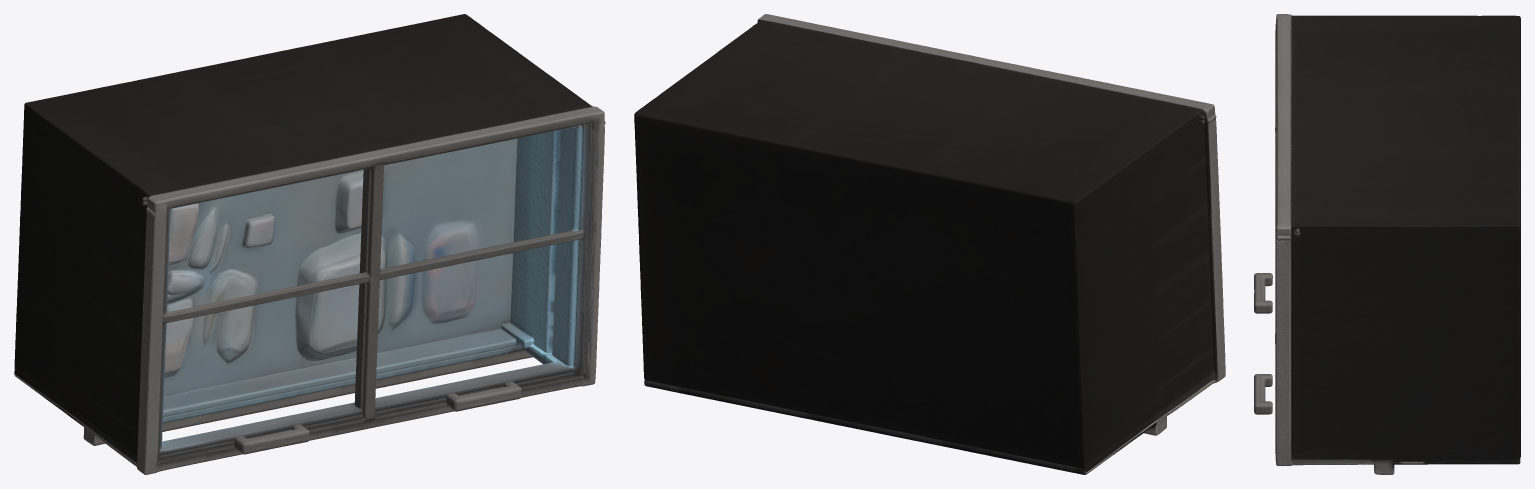
3 renders of one model, left to right at view 1: azimuth 30°, elevation 25°; view 2: azimuth 150°, elevation 25°; view 3: azimuth 270°, elevation 25°, orthographic. The views are drawn at different scales.
Visible parts, largest first — view 1: Mesh_0.001; view 2: Mesh_0.001; view 3: Mesh_0.001.
Part boxes in pixels (bbox=[...]): Mesh_0.001: bbox=[14, 14, 605, 474]; Mesh_0.001: bbox=[634, 14, 1225, 474]; Mesh_0.001: bbox=[1254, 14, 1520, 474].
Bounding box in the file's own units: 1.82 × 1.13 × 1.01.
Materials: 1 (1 with a texture image).
